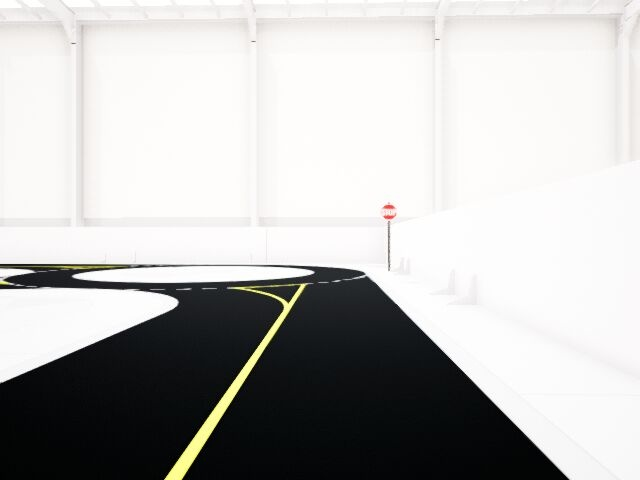stopsign: (381, 204, 397, 220)
